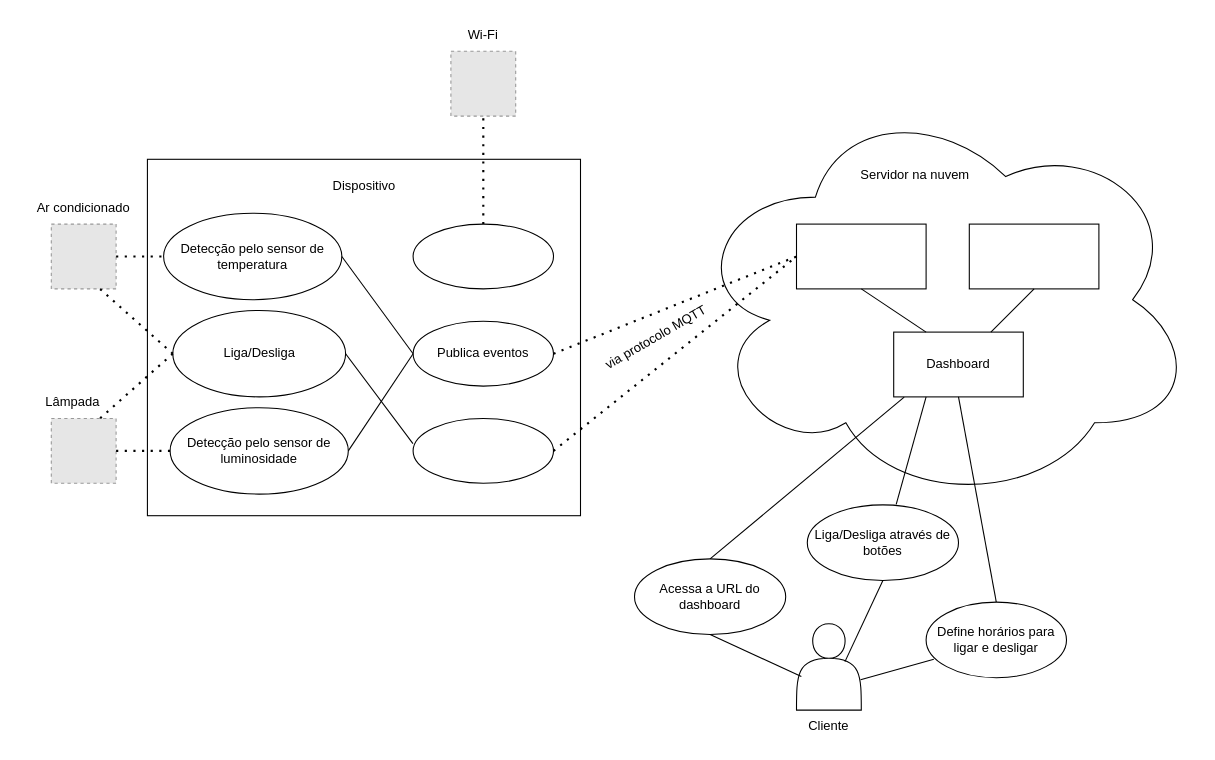
The diagram is 1215 pixels wide and 760 high, and some of its shapes have lost their labels. Grey dashed boxes stand in for pictures. Each missing label, with the centre of its shape:
Banco de dados: (x=1033, y=256)
Broker Mosquitto: (x=860, y=256)
Conecta-se ao Wi-Fi: (x=483, y=256)
Recebe comandos: (x=483, y=450)
